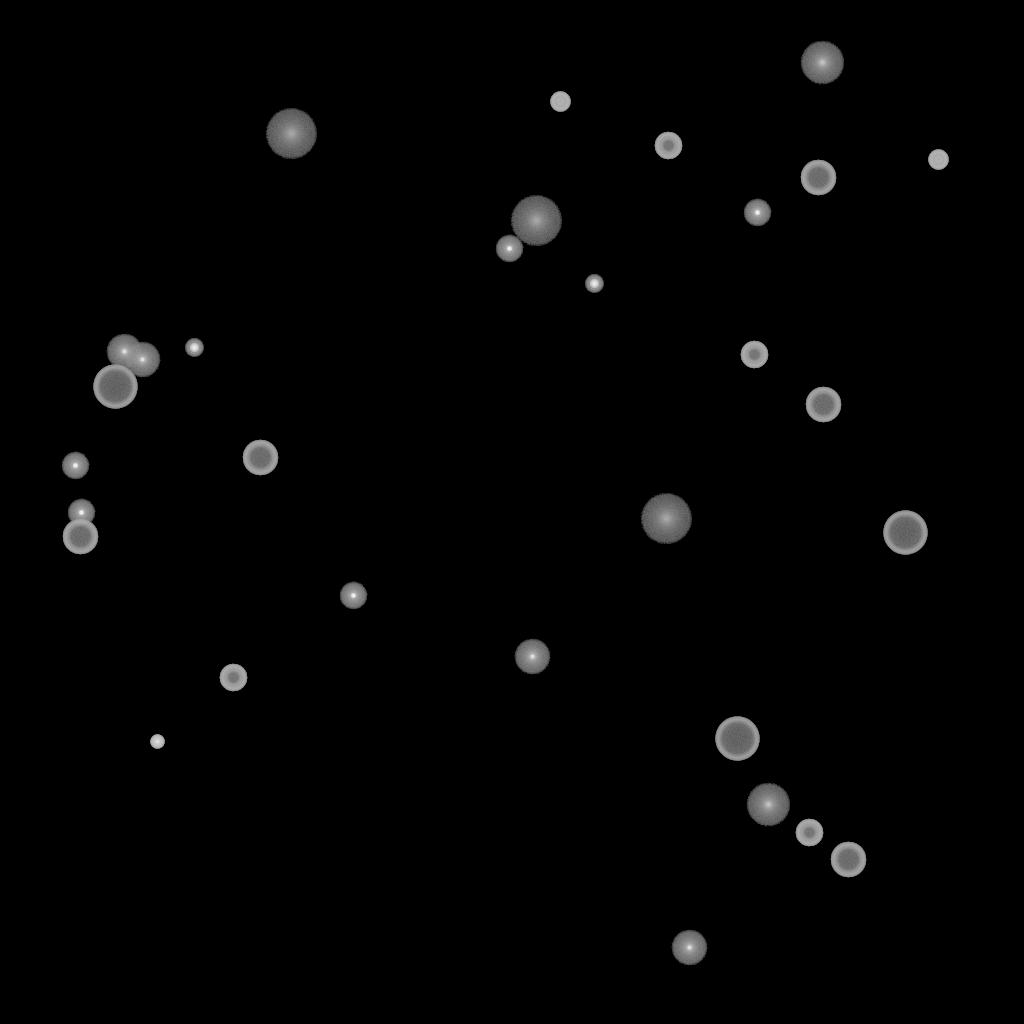depth:-10: (339, 582, 367, 610), (495, 235, 523, 263), (61, 452, 89, 480), (743, 199, 771, 227), (67, 499, 95, 527)
depth:-20: (185, 339, 203, 357), (585, 275, 603, 293)
depth:-30: (150, 735, 164, 749)
depth:-40: (928, 150, 948, 170), (550, 92, 570, 112)
depth:-50: (795, 819, 823, 847), (740, 341, 768, 369), (654, 132, 682, 160), (219, 664, 247, 692)
depth:-60: (800, 160, 836, 196), (830, 842, 866, 878), (242, 440, 278, 476), (62, 519, 98, 555), (805, 387, 841, 423)
depth:-70: (93, 365, 137, 409), (715, 717, 759, 761), (883, 511, 927, 555)
depth:0: (514, 639, 550, 675), (106, 334, 142, 370), (671, 930, 707, 966), (124, 342, 160, 378)
depth:10: (746, 783, 790, 827), (800, 41, 844, 85)
depth:20: (510, 196, 562, 246), (265, 109, 317, 159), (640, 494, 692, 544)
